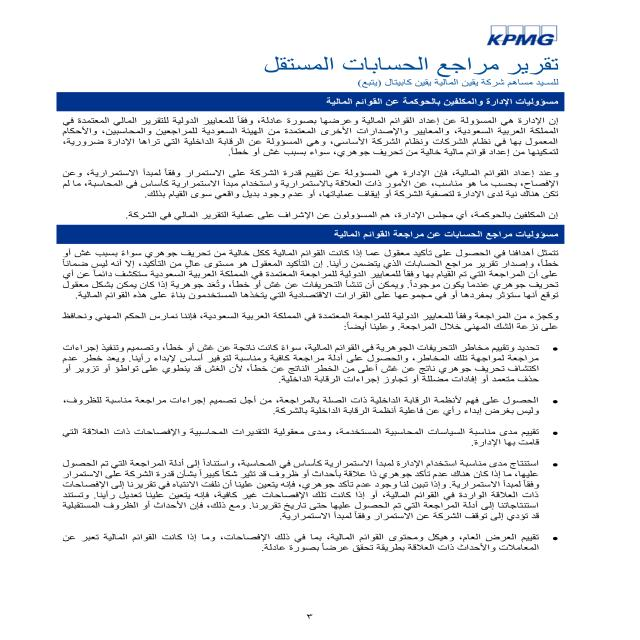auditor_report: (254, 53, 569, 77)
